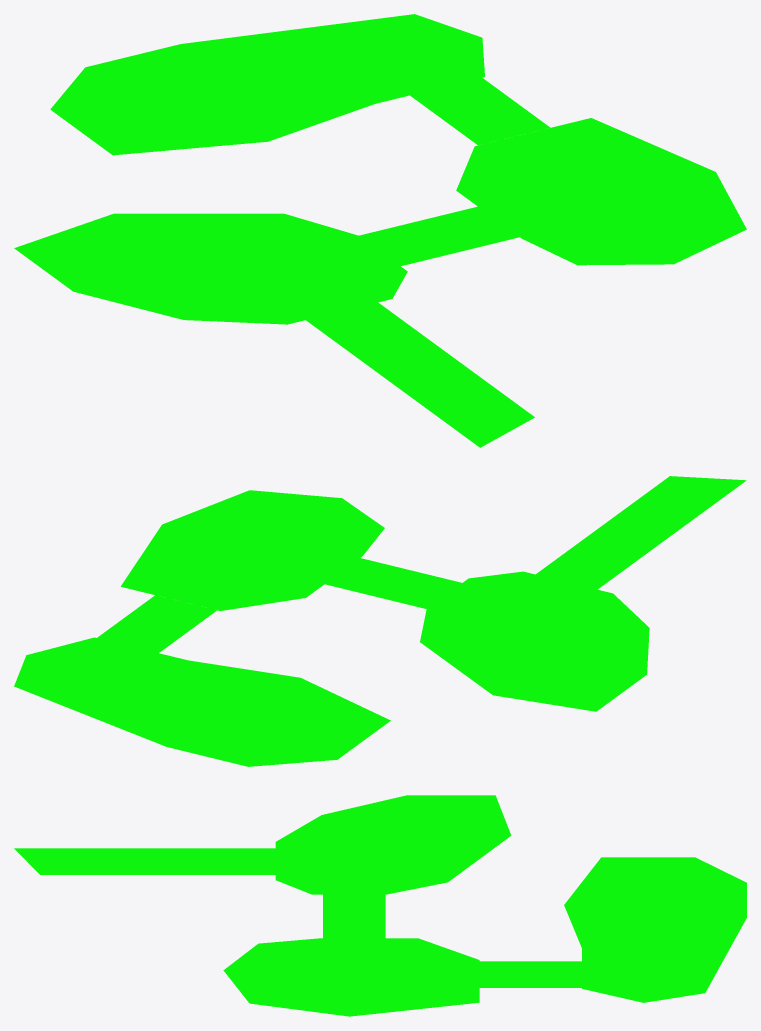
File: s01b_nc2-floor.glb
The picture shows the model from 3 angles, top to bottom: view 1: azimuth 30°, elevation 25°; view 2: azimuth 150°, elevation 25°; view 3: azimuth 270°, elevation 25°; orthographic projection. The views are drawn at different scales.
Visible parts, largest first — view 1: collision_floor-colonly; view 2: collision_floor-colonly; view 3: collision_floor-colonly.
Part boxes in pixels (x1,y1,x2,y2): collision_floor-colonly: [14, 14, 746, 447]; collision_floor-colonly: [14, 476, 746, 766]; collision_floor-colonly: [14, 795, 746, 1016].
Bounding box in the file's own units: 50 × 0 × 70.
